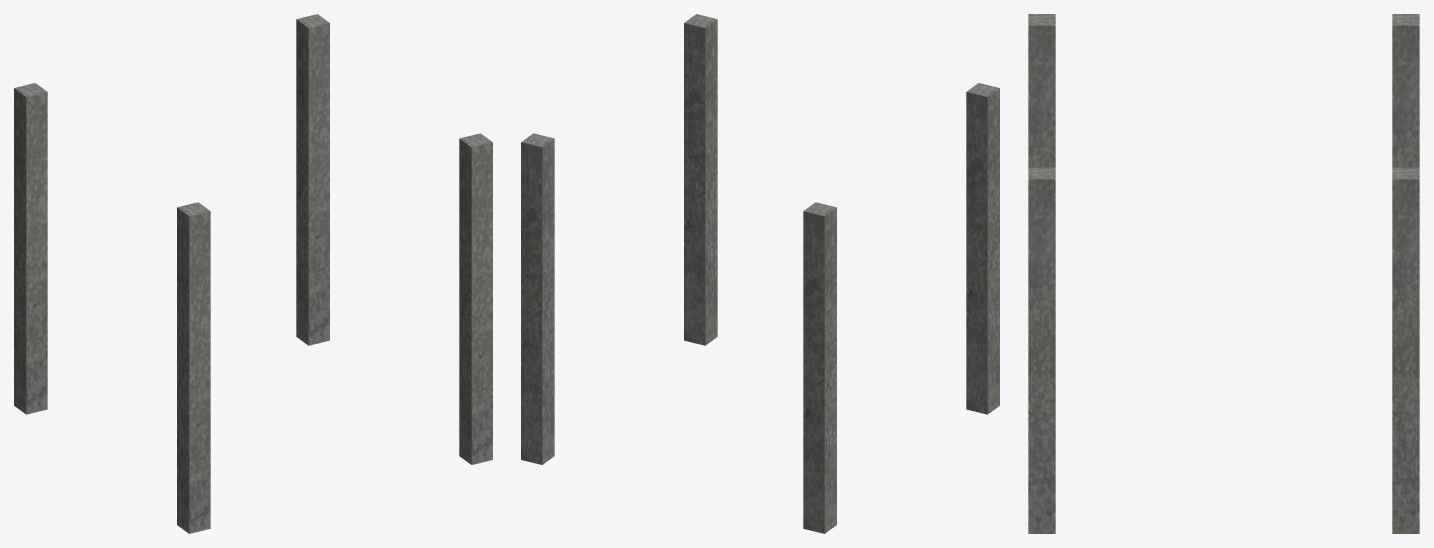
The model's file is scaffolding_poles.dae.
The picture shows the model from 3 angles, left to right: view 1: azimuth 30°, elevation 25°; view 2: azimuth 150°, elevation 25°; view 3: azimuth 270°, elevation 25°; orthographic projection. The views are drawn at different scales.
Parts seen in each view (by area): view 1: scaffolding_poles; view 2: scaffolding_poles; view 3: scaffolding_poles.
Part boxes in pixels (bbox=[...]): scaffolding_poles: bbox=[14, 14, 492, 533]; scaffolding_poles: bbox=[521, 14, 999, 533]; scaffolding_poles: bbox=[1028, 14, 1419, 533].
Size of the model in its own units: 1 by 1 by 1.
